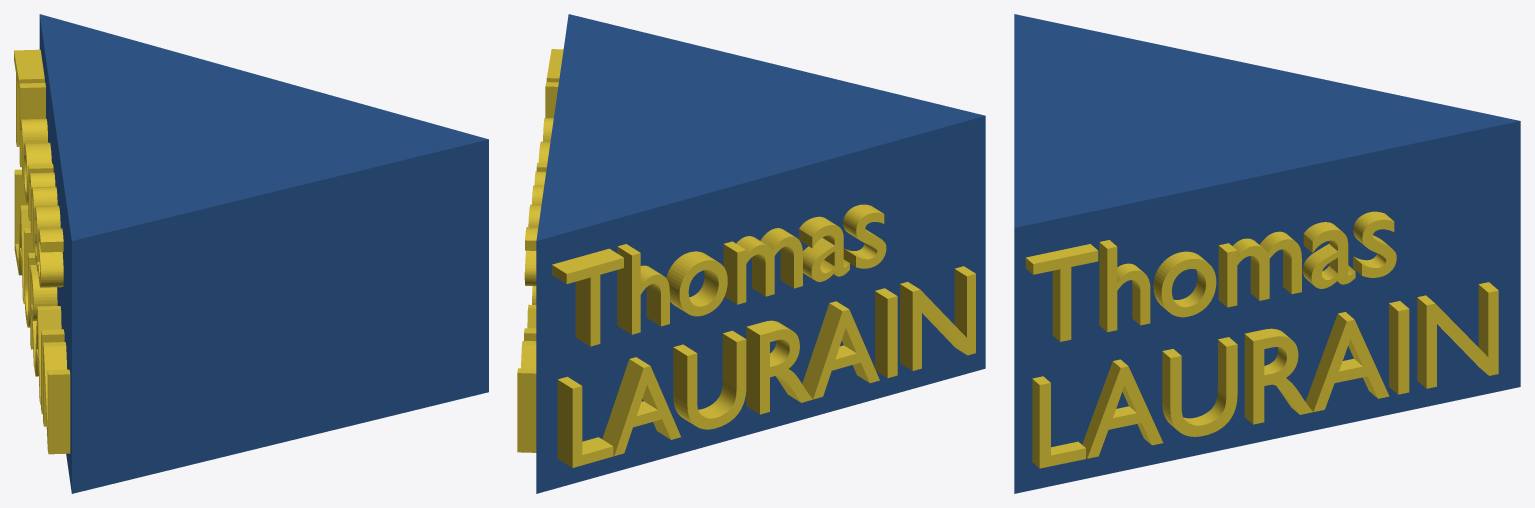
File: Thomas_LAURAIN.fbx
The picture shows the model from 3 angles, left to right: view 1: azimuth 30°, elevation 25°; view 2: azimuth 150°, elevation 25°; view 3: azimuth 270°, elevation 25°; orthographic projection. The views are drawn at different scales.
Parts seen in each view (by area): view 1: Cube, Text.001; view 2: Cube, Text.001, Text; view 3: Cube, Text.
Part boxes in pixels (left/top/right/bottom): Cube: left=39, top=14, right=488, bottom=493; Text.001: left=14, top=49, right=70, bottom=454; Cube: left=536, top=14, right=985, bottom=493; Text.001: left=552, top=204, right=975, bottom=467; Text: left=517, top=49, right=563, bottom=452; Cube: left=1014, top=14, right=1520, bottom=493; Text: left=1025, top=211, right=1498, bottom=468.
Size of the model in its own units: 65.62 by 36.7 by 63.36.
